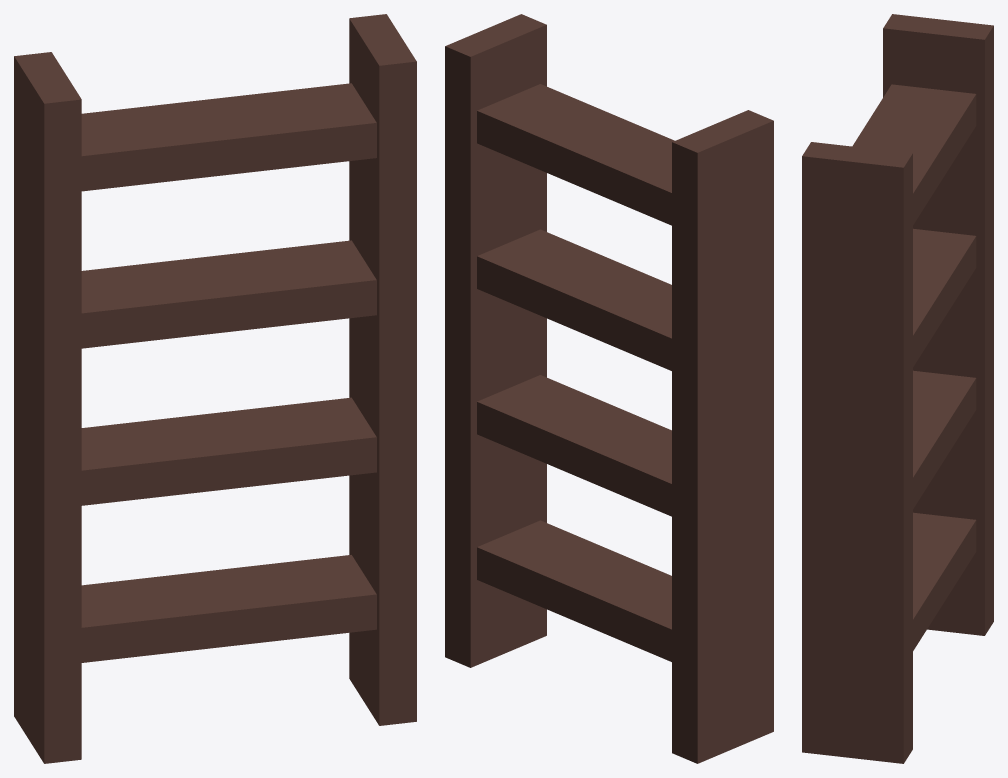
The model's file is ladder.glb.
The picture shows the model from 3 angles, left to right: view 1: azimuth 30°, elevation 25°; view 2: azimuth 150°, elevation 25°; view 3: azimuth 270°, elevation 25°; orthographic projection. The views are drawn at different scales.
Parts seen in each view (by area): view 1: Cube.1003; view 2: Cube.1003; view 3: Cube.1003.
Boxes of the visible parts, bbox=[...] form: Cube.1003: bbox=[14, 14, 416, 763]; Cube.1003: bbox=[445, 14, 773, 763]; Cube.1003: bbox=[802, 14, 993, 763].
Bounding box in the file's own units: 1.28 × 2.31 × 0.6736.
Materials: 1 (1 with a texture image).
